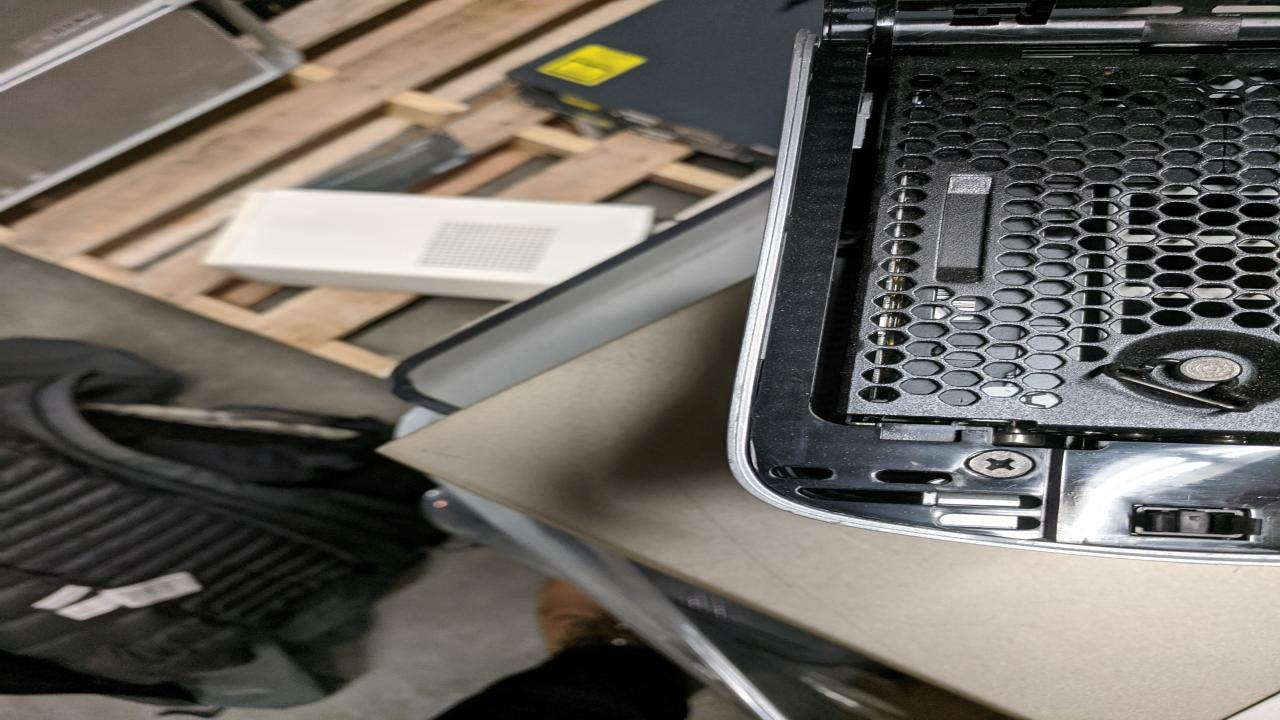CRS: (964, 448, 1038, 479)
